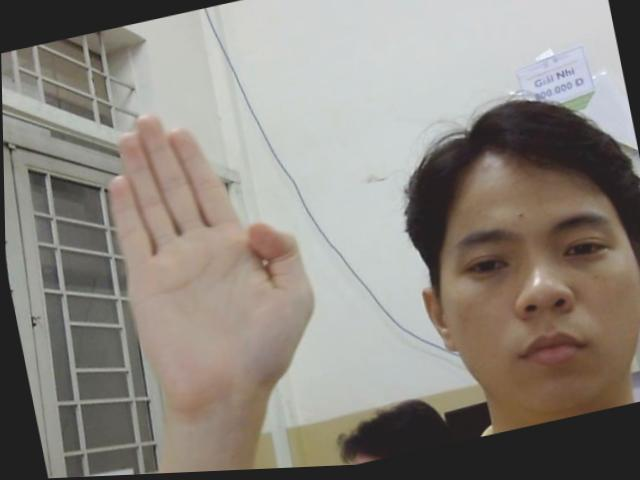B: (53, 77, 341, 422)
